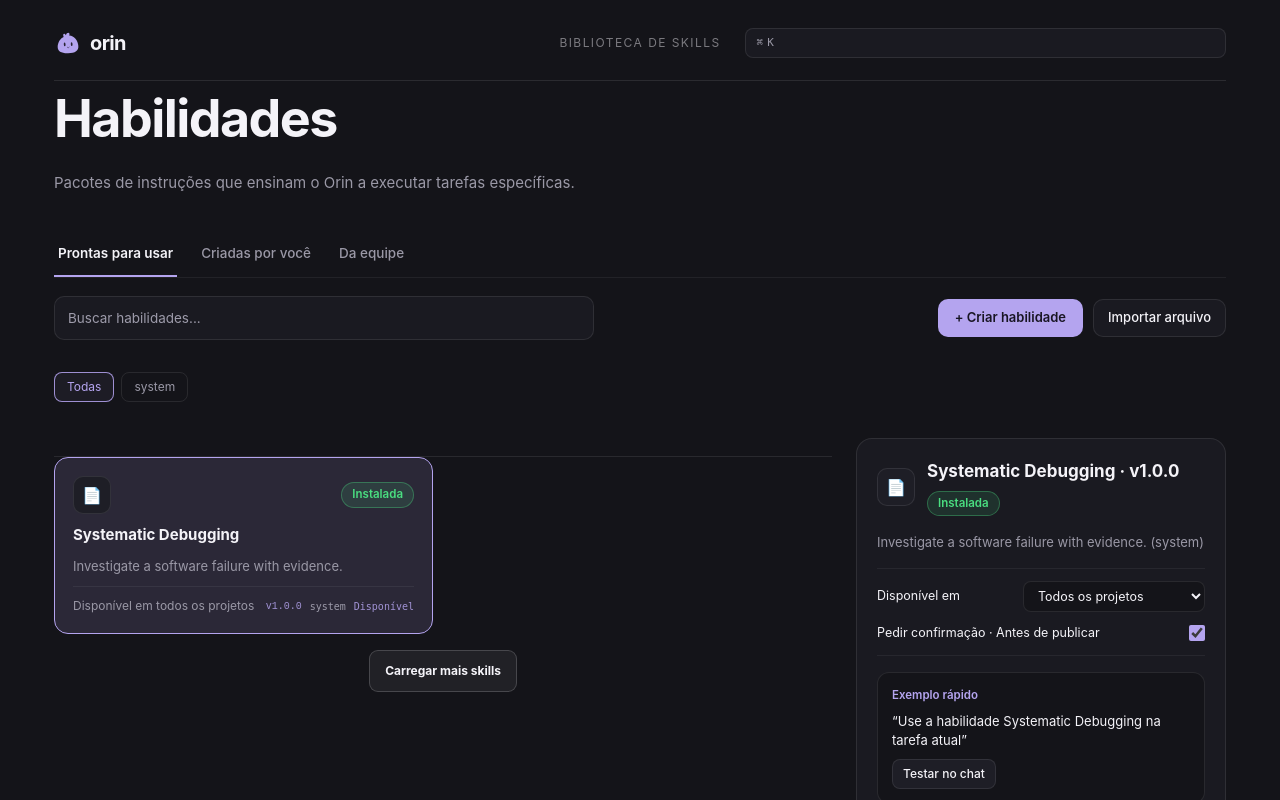
Scenario: SkillsPage › loads the next skills page and appends its compact rows
Check: the link "Systematic Debugging" is shown, box [73, 525, 239, 544]
Click the button "Carregar mais skills": [443, 671] box [369, 650, 517, 692]
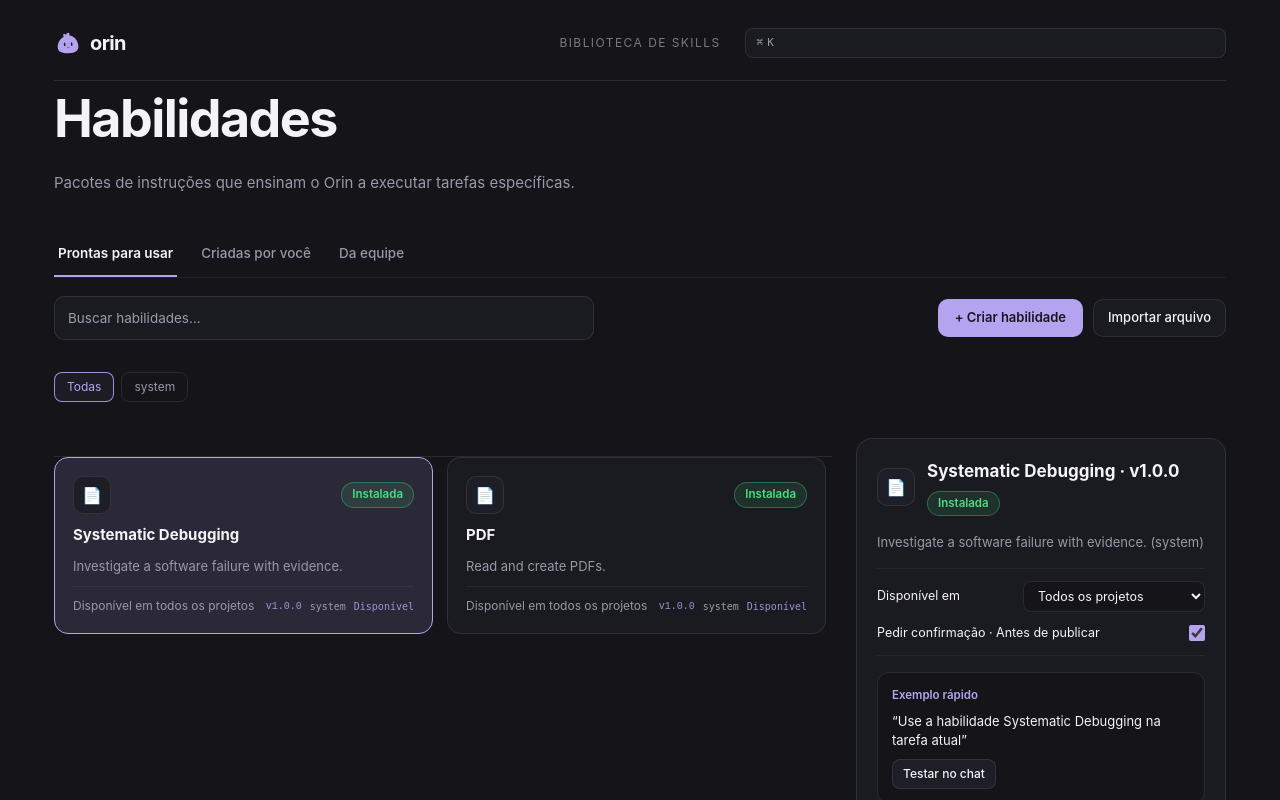
Check: the link "PDF" is shown, box [466, 525, 495, 544]
Check: the button "Carregar mais skills" is gone
